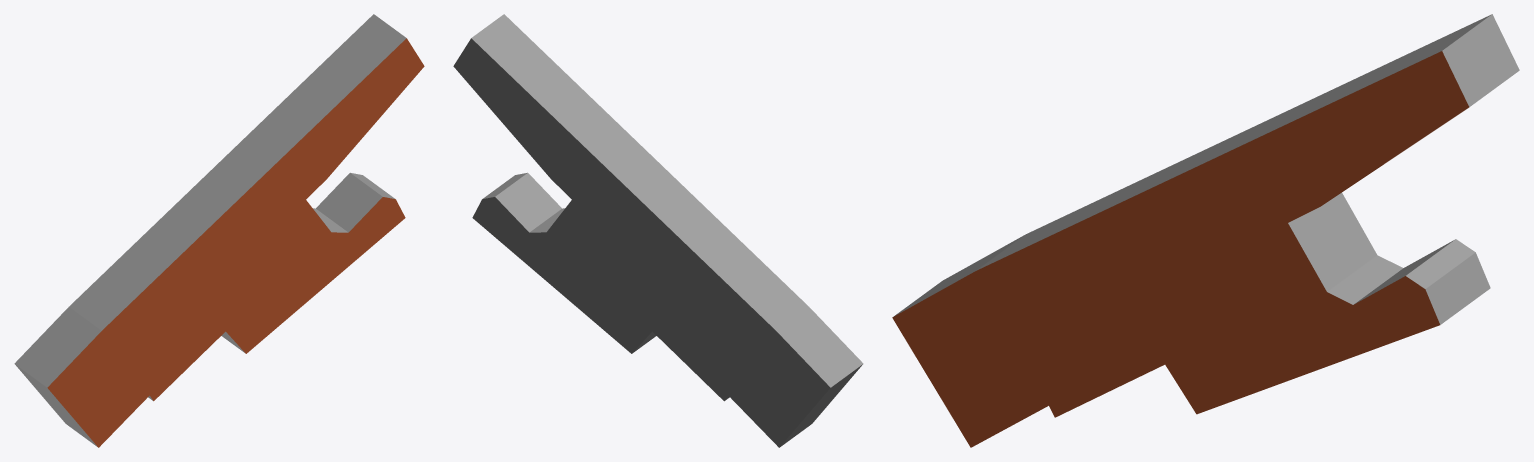
The model's file is construction_3896_assumed_A_Casa_h6m.obj.
The picture shows the model from 3 angles, left to right: view 1: azimuth 30°, elevation 25°; view 2: azimuth 150°, elevation 25°; view 3: azimuth 330°, elevation 25°; orthographic projection. The views are drawn at different scales.
Parts seen in each view (by area): view 1: construction_3896_assumed_A_Casa; view 2: construction_3896_assumed_A_Casa; view 3: construction_3896_assumed_A_Casa.
Boxes of the visible parts, left/top/right/bottom form: construction_3896_assumed_A_Casa: left=14, top=14, right=424, bottom=447; construction_3896_assumed_A_Casa: left=453, top=14, right=863, bottom=447; construction_3896_assumed_A_Casa: left=892, top=14, right=1519, bottom=447.
Bounding box in the file's own units: 39.67 × 33.63 × 6.
